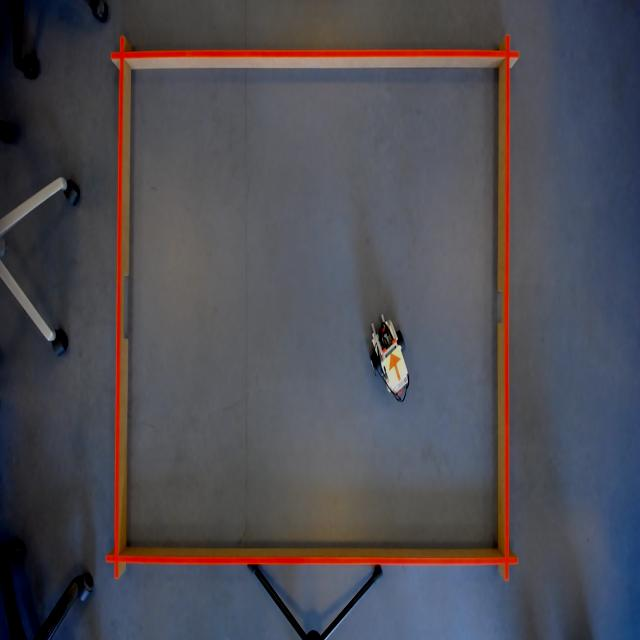robot: (381, 345, 409, 391)
